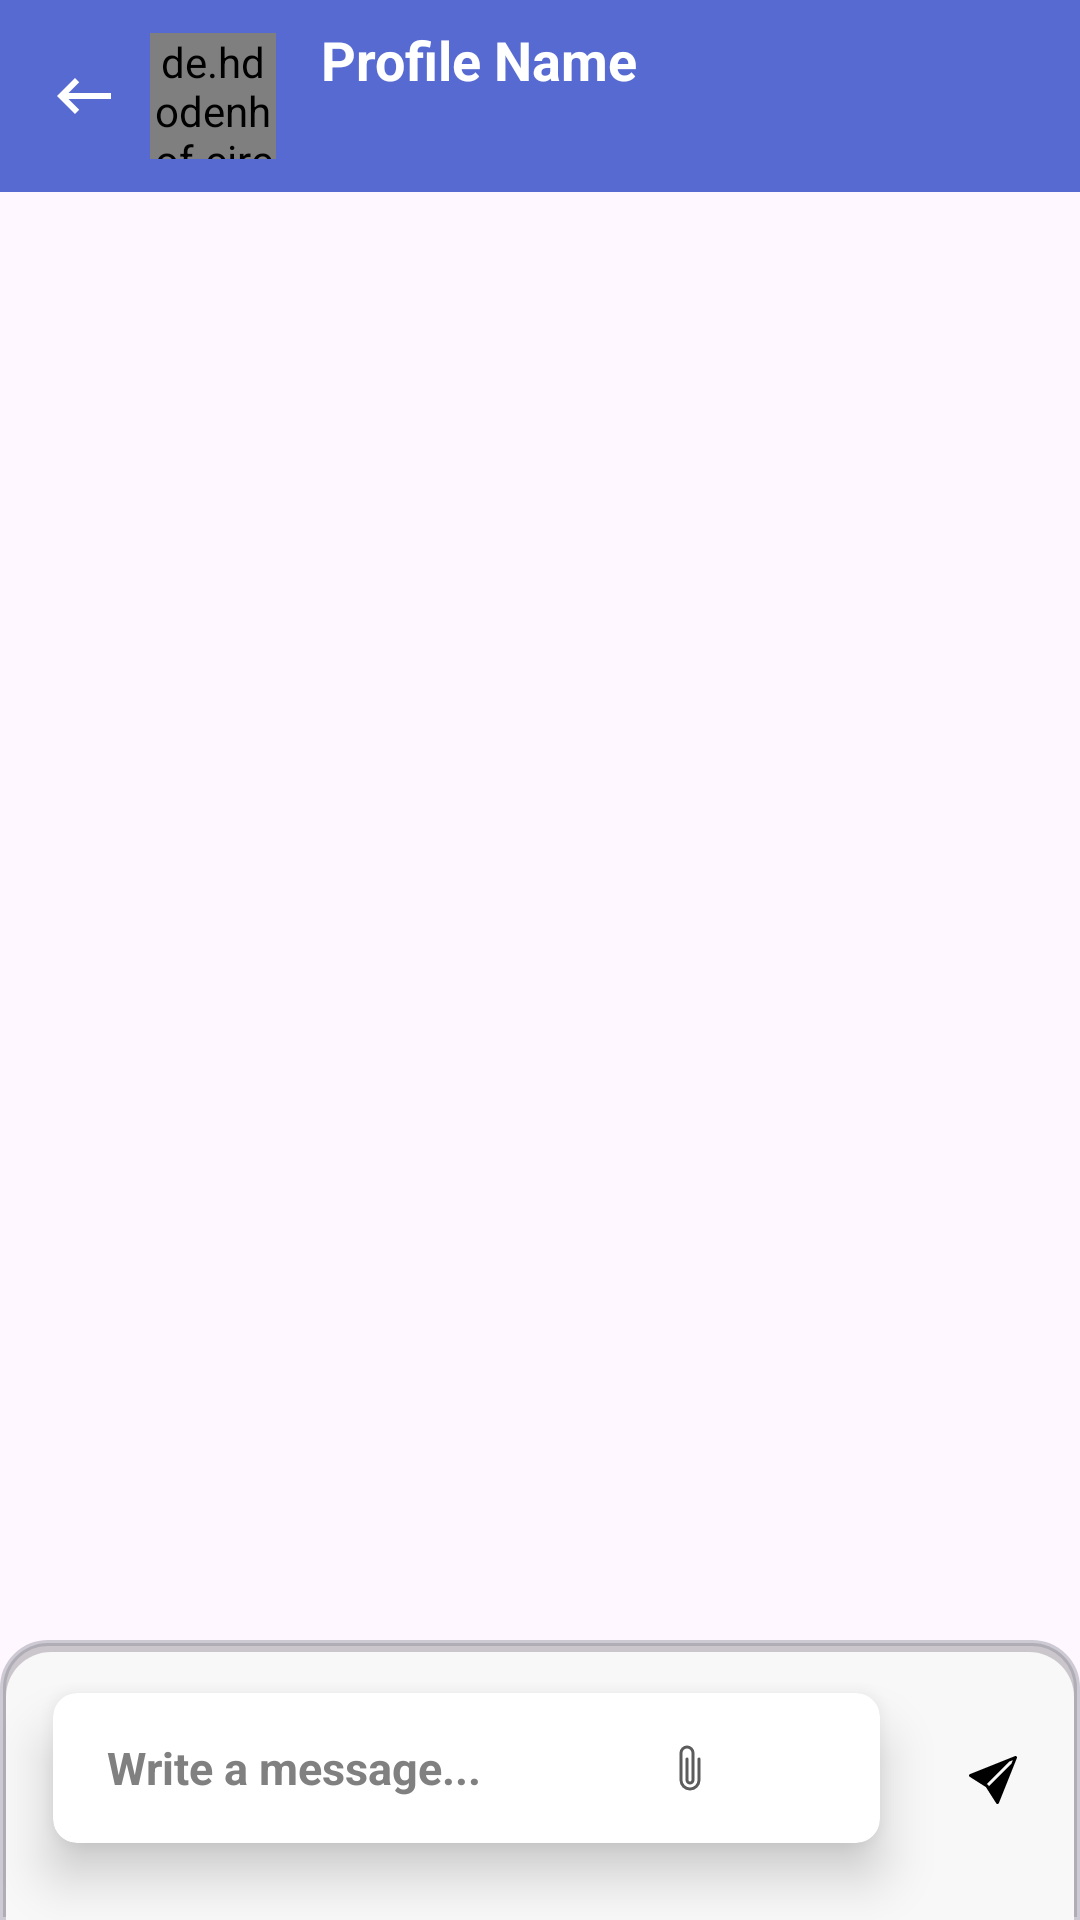

Where to tap for icons on this 1080×1920 app screen, as point (x, y):
back backspace: point (84, 96)
paperclip: point (690, 1768)
send: point (993, 1780)
